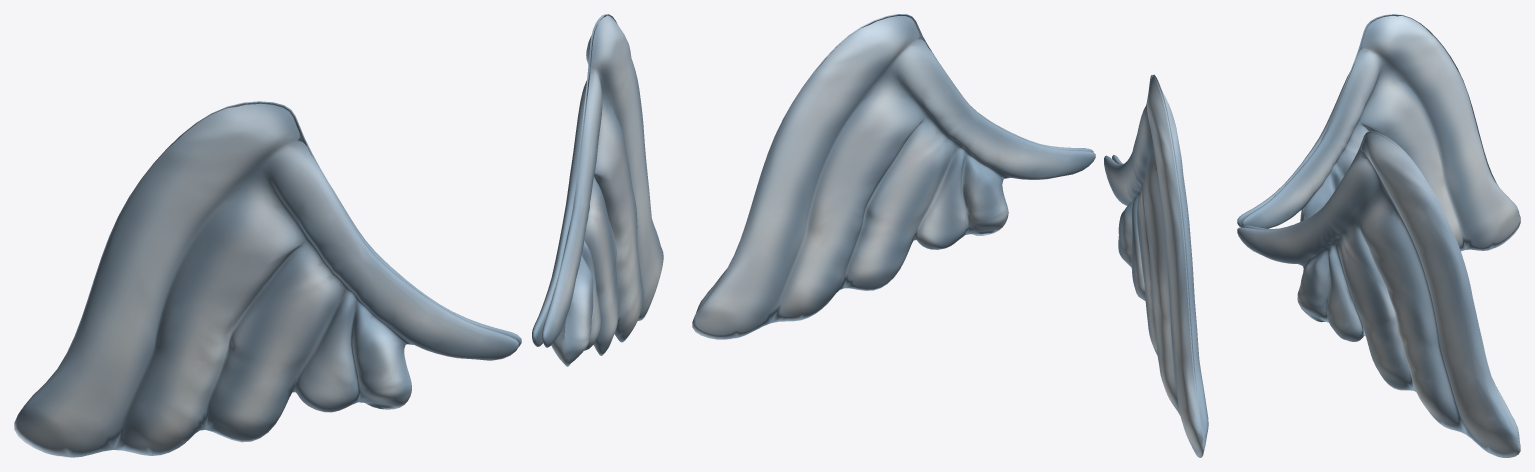
File: ADBASE_ANGEL_wings.fbx
3 renders of one model, left to right at view 1: azimuth 30°, elevation 25°; view 2: azimuth 150°, elevation 25°; view 3: azimuth 270°, elevation 25°, orthographic. The views are drawn at different scales.
Parts seen in each view (by area): view 1: AngelWings; view 2: AngelWings; view 3: AngelWings.
Boxes of the visible parts, x1=… form: AngelWings: x1=14, y1=14, x2=663, y2=457; AngelWings: x1=692, y1=14, x2=1208, y2=457; AngelWings: x1=1237, y1=14, x2=1520, y2=457.
Size of the model in its own units: 110 by 62.24 by 57.74.
